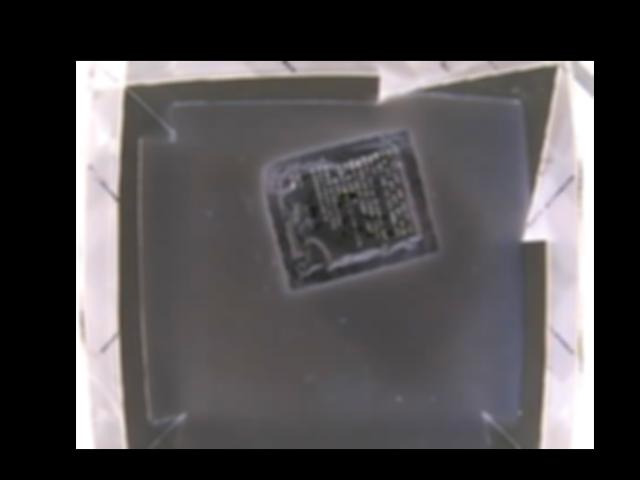Medicine: (264, 131, 441, 288)
